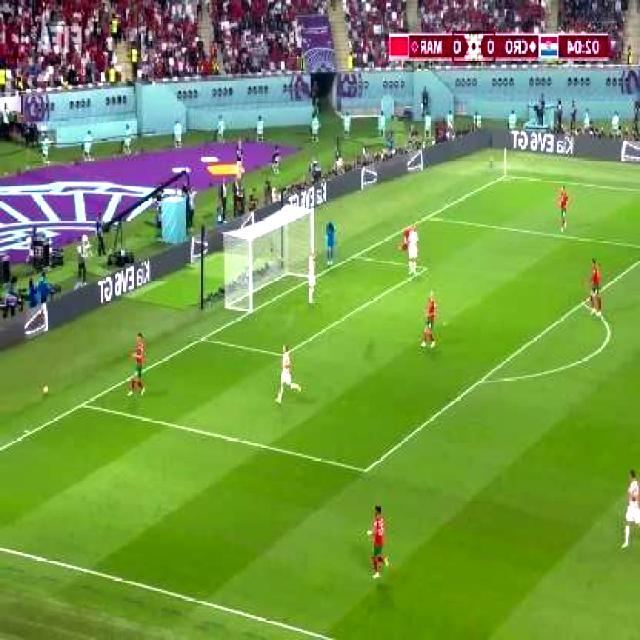bigarea_bottom_inner: (357, 457, 375, 481)
bigarea_bottom_outter: (74, 394, 91, 415)
bigarea_top_outter: (422, 208, 436, 225)
bottom_arc_area_intersection: (474, 369, 491, 391)
corner: (500, 168, 515, 182)
smallarea_bottom_outter: (195, 329, 211, 348)
smallarea_top_inner: (418, 257, 436, 278)
smallarea_top_outter: (349, 246, 363, 265)
top_arc_area_intersection: (577, 292, 592, 312)
